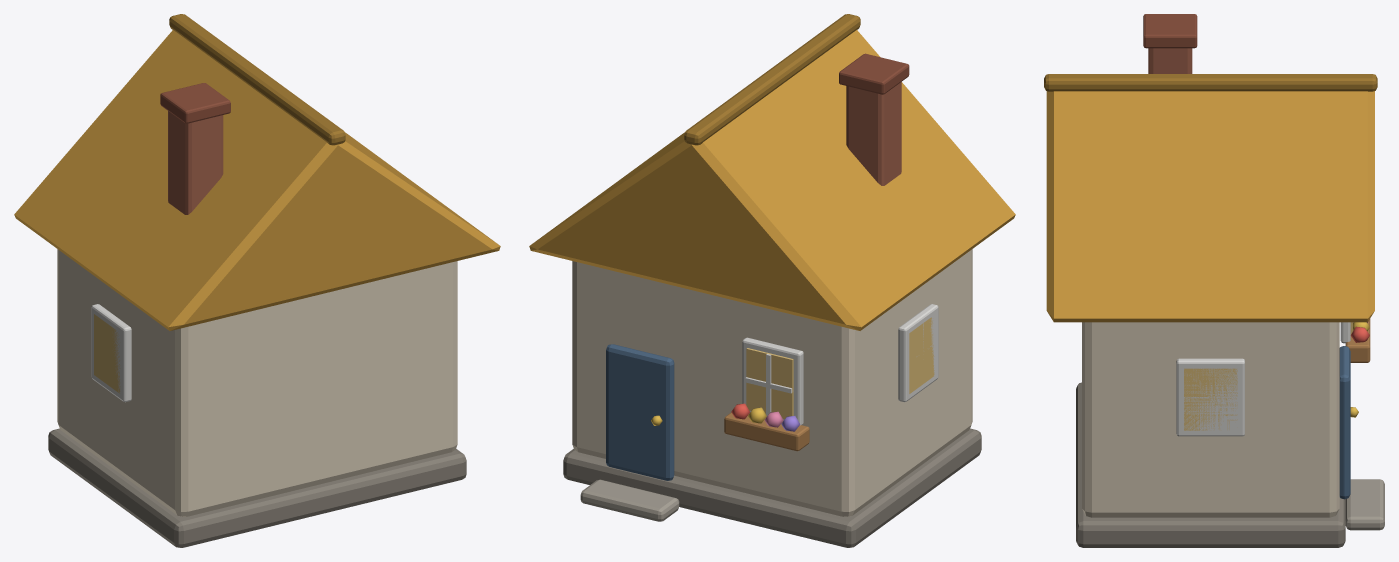
The model's file is cottage_yellow.fbx.
The picture shows the model from 3 angles, left to right: view 1: azimuth 30°, elevation 25°; view 2: azimuth 150°, elevation 25°; view 3: azimuth 270°, elevation 25°; orthographic projection.
Parts seen in each view (by area): view 1: cottage_yellow; view 2: cottage_yellow; view 3: cottage_yellow.
Part boxes in pixels (x1,y1,x2,y2): cottage_yellow: (14,14,500,547); cottage_yellow: (529,14,1015,547); cottage_yellow: (1044,14,1384,547).
Size of the model in its own units: 1.59 by 1.86 by 1.39.
